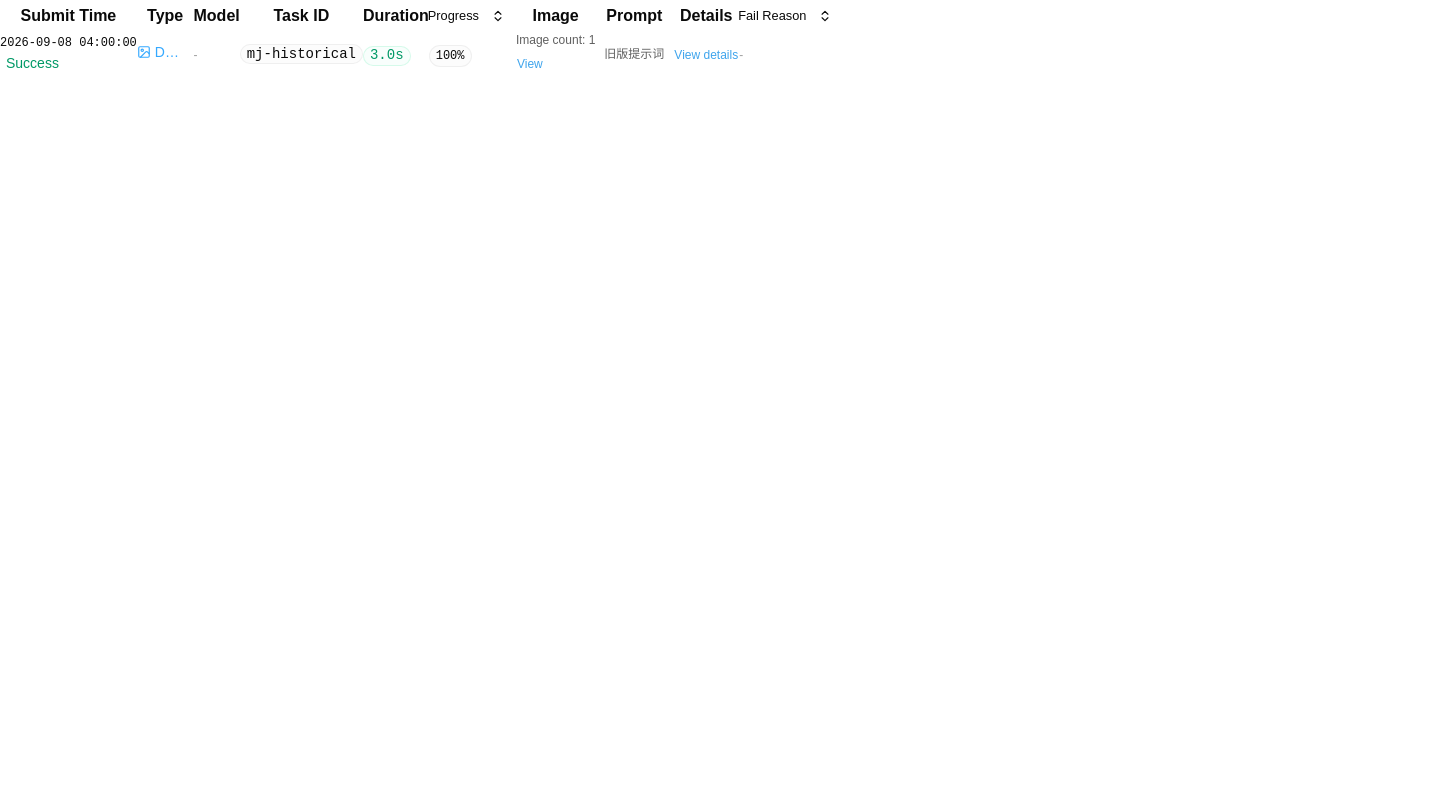
historical details explain missing parameters and do not guess model, cost or request ID
What coordinates should you click on to do the following:
click the button "View details"
I would click on:
 (706, 54)
Its box is top-left (673, 42), bottom-right (739, 66).
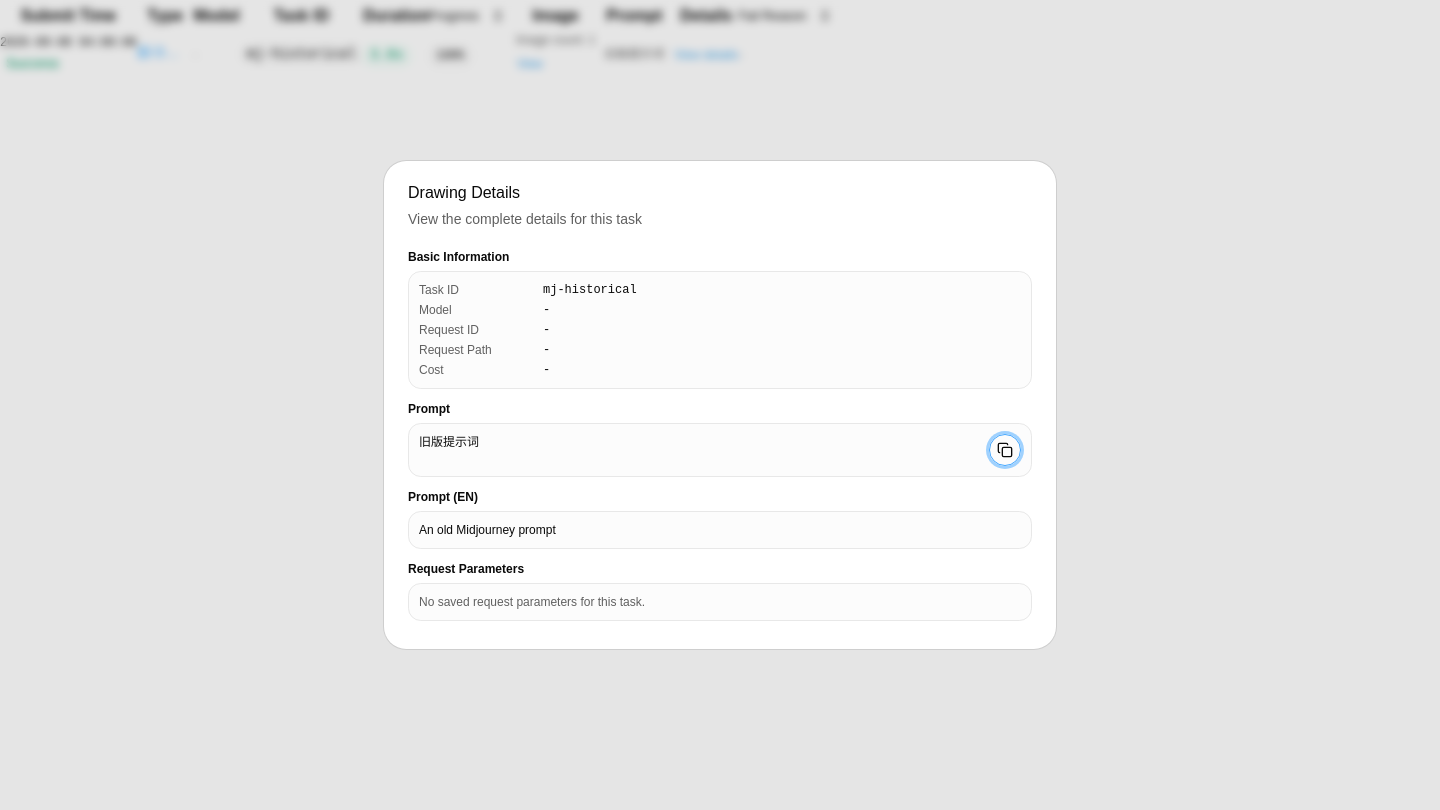
Expected: the dialog "Drawing Details" does not show "not-a-saved-model", top-left (384, 161), bottom-right (1056, 649)
Expected: the text "No saved request parameters for this task." is shown, top-left (419, 595), bottom-right (645, 609)
